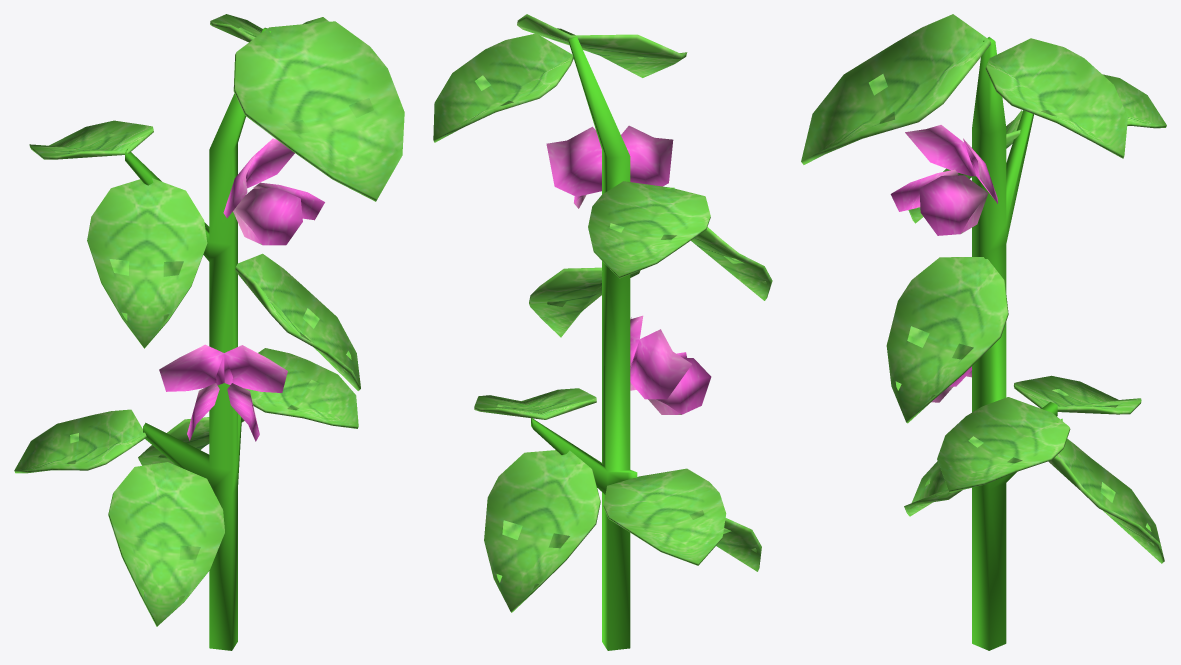
The picture shows the model from 3 angles, left to right: view 1: azimuth 30°, elevation 25°; view 2: azimuth 150°, elevation 25°; view 3: azimuth 270°, elevation 25°; orthographic projection. The views are drawn at different scales.
Visible parts, largest first — view 1: 立方体; view 2: 立方体; view 3: 立方体.
Part boxes in pixels (<box>): 立方体: <box>14,14,404,650</box>; 立方体: <box>433,14,772,650</box>; 立方体: <box>801,14,1166,650</box>.
Bounding box in the file's own units: 1.78 × 3.61 × 1.91.
